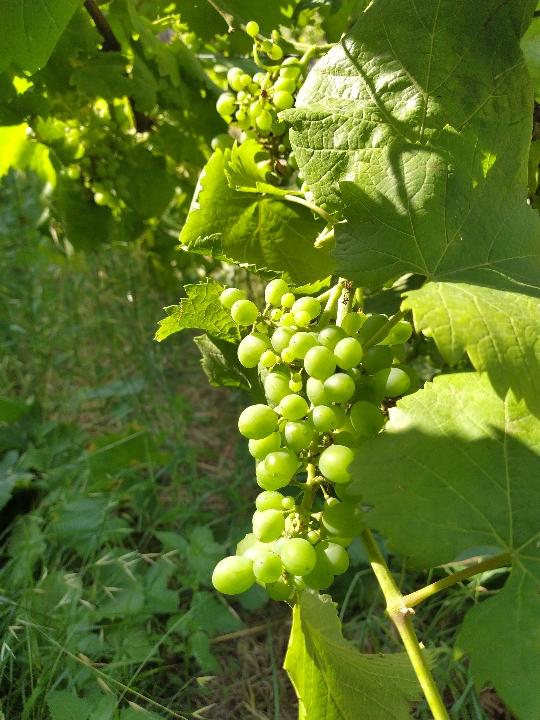grape: (206, 273, 415, 599)
